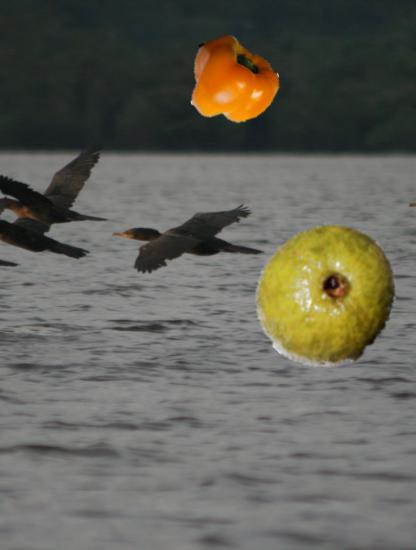Guava: (252, 221, 401, 370)
Pepper: (186, 34, 278, 126)
